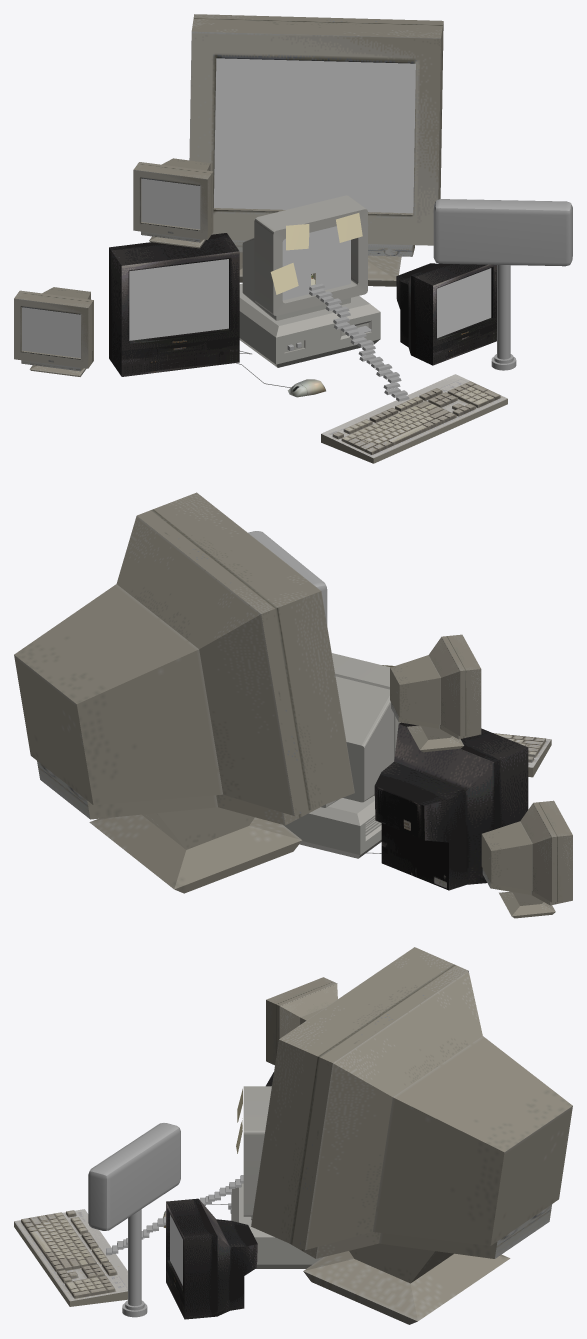
The model's file is level 1-1.fbx.
3 renders of one model, top to bottom at view 1: azimuth 30°, elevation 25°; view 2: azimuth 150°, elevation 25°; view 3: azimuth 270°, elevation 25°, orthographic. The views are drawn at different scales.
Parts seen in each view (by area): view 1: pasted__Computer Monitor, pasted__Panasonic VHS TV, pasted__pCube81, pasted__Panasonic VHS TV1, pasted__Keyboard, pasted__Computer Monitor1, pasted__Computer Monitor2, pasted__pasted__pCube3, pasted__pasted__pCube1, pasted__pasted__pCube4, pasted__pCylinder13, comp:note_top (+2 smaller); view 2: pasted__Computer Monitor, pasted__Panasonic VHS TV, pasted__Computer Monitor1, pasted__Computer Monitor2, pasted__pasted__pCube4, pasted__pasted__pCube1, pasted__pasted__pCube3, pasted__pCube81, pasted__Keyboard; view 3: pasted__Computer Monitor, pasted__Panasonic VHS TV1, pasted__Keyboard, pasted__pCube81, pasted__Computer Monitor1, pasted__pasted__pCube3, pasted__pasted__pCube1, pasted__pCylinder13.
Boxes of the visible parts, bbox=[...] form: pasted__Computer Monitor: bbox=[189, 14, 443, 286]; pasted__Panasonic VHS TV: bbox=[109, 233, 239, 376]; pasted__pCube81: bbox=[433, 199, 572, 266]; pasted__Panasonic VHS TV1: bbox=[396, 263, 496, 365]; pasted__Keyboard: bbox=[321, 374, 507, 463]; pasted__Computer Monitor1: bbox=[133, 158, 213, 248]; pasted__Computer Monitor2: bbox=[14, 287, 93, 376]; pasted__pasted__pCube3: bbox=[254, 195, 367, 315]; pasted__pasted__pCube1: bbox=[239, 283, 380, 367]; pasted__pasted__pCube4: bbox=[242, 226, 350, 320]; pasted__pCylinder13: bbox=[491, 265, 516, 370]; comp:note_top: bbox=[336, 213, 362, 242]; pasted__Computer Monitor: bbox=[14, 492, 354, 893]; pasted__Panasonic VHS TV: bbox=[374, 722, 528, 890]; pasted__Computer Monitor1: bbox=[390, 634, 481, 752]; pasted__Computer Monitor2: bbox=[481, 800, 572, 918]; pasted__pasted__pCube4: bbox=[335, 676, 393, 802]; pasted__pasted__pCube1: bbox=[283, 795, 381, 858]; pasted__pasted__pCube3: bbox=[331, 653, 400, 761]; pasted__pCube81: bbox=[248, 531, 327, 625]; pasted__Keyboard: bbox=[493, 733, 551, 777]; pasted__Computer Monitor: bbox=[251, 947, 572, 1324]; pasted__Panasonic VHS TV1: bbox=[166, 1198, 257, 1319]; pasted__Keyboard: bbox=[14, 1209, 127, 1306]; pasted__pCube81: bbox=[88, 1123, 180, 1230]; pasted__Computer Monitor1: bbox=[266, 977, 337, 1065]; pasted__pasted__pCube3: bbox=[243, 1086, 271, 1216]; pasted__pasted__pCube1: bbox=[231, 1183, 323, 1268]; pasted__pCylinder13: bbox=[122, 1209, 147, 1317].
Bounding box in the file's own units: 2352 × 1430 × 2518.
